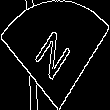N_SW: (32, 23, 78, 87)
